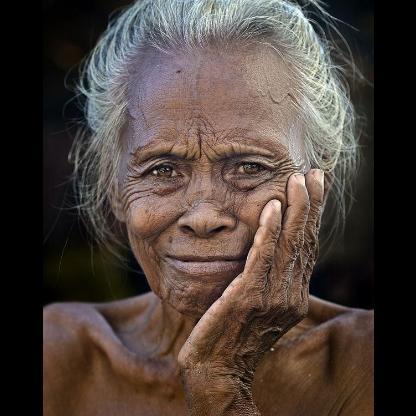Female: (110, 38, 324, 316)
